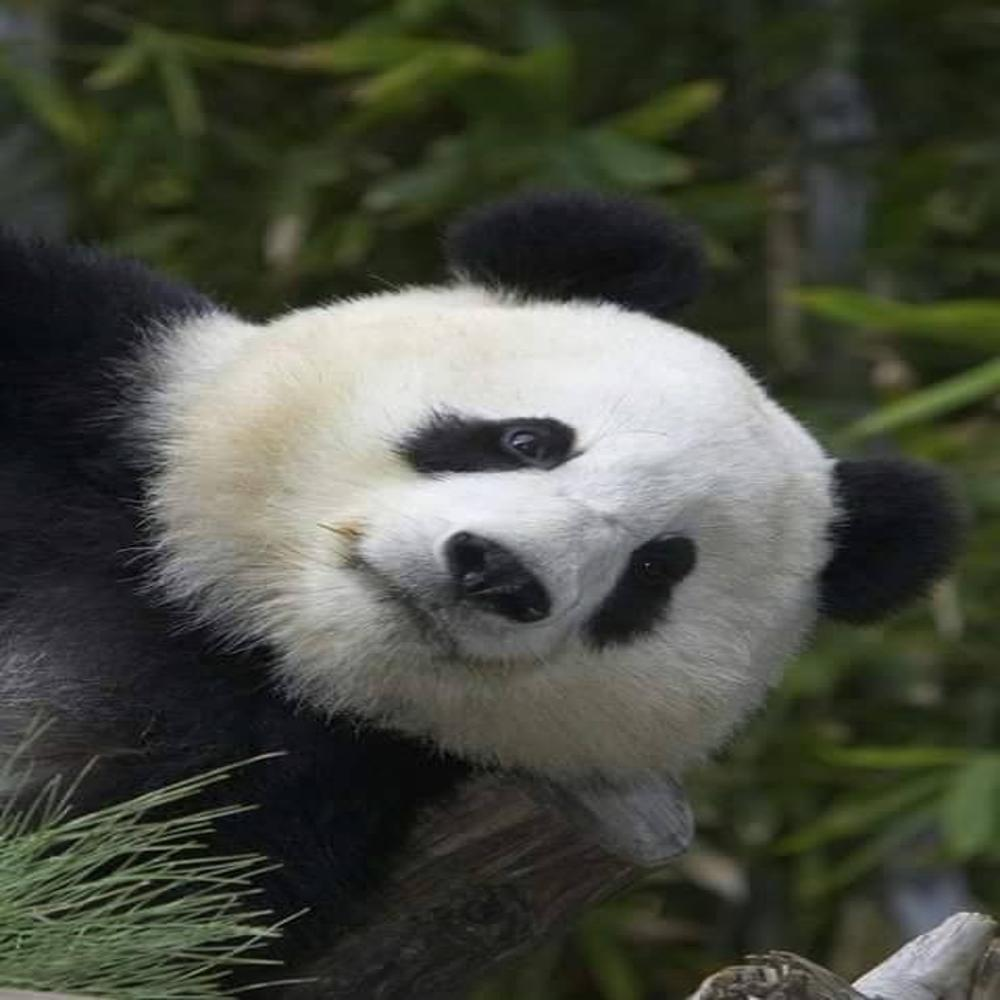panda: (0, 180, 957, 945)
